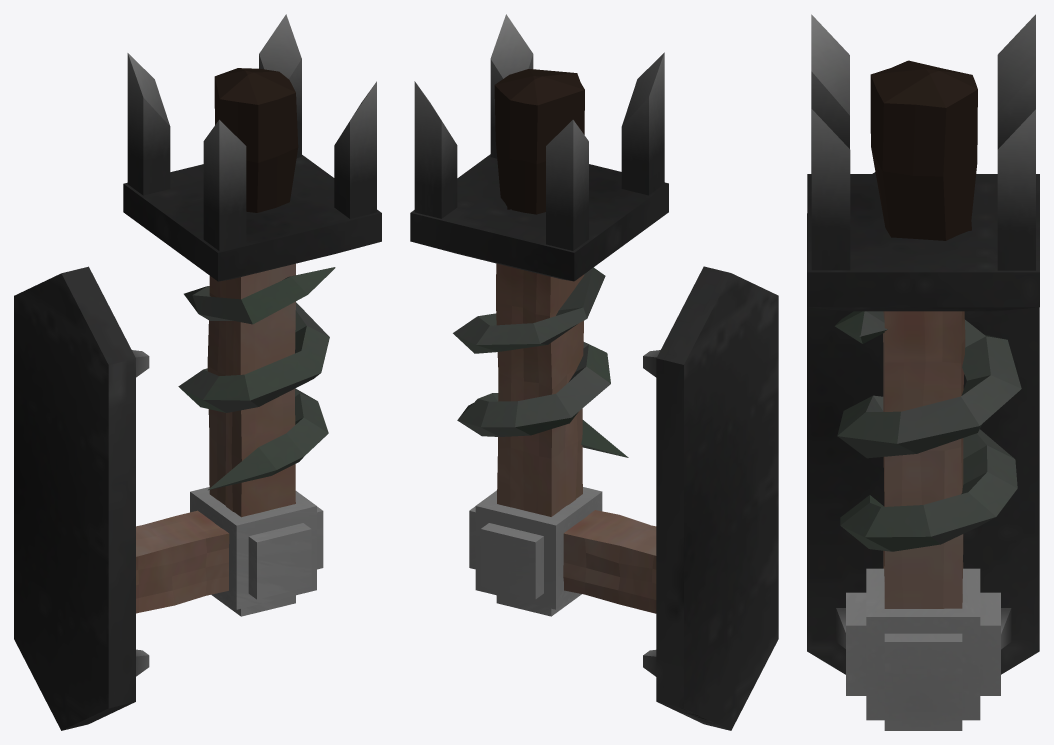
File: torch.obj
The picture shows the model from 3 angles, left to right: view 1: azimuth 30°, elevation 25°; view 2: azimuth 150°, elevation 25°; view 3: azimuth 270°, elevation 25°; orthographic projection. The views are drawn at different scales.
Visible parts, largest first — view 1: torch_Cube.066; view 2: torch_Cube.066; view 3: torch_Cube.066.
Part boxes in pixels (<box>): torch_Cube.066: <box>14,14,381,730</box>; torch_Cube.066: <box>410,14,778,730</box>; torch_Cube.066: <box>807,14,1039,730</box>.
Bounding box in the file's own units: 10 × 21.58 × 6.
